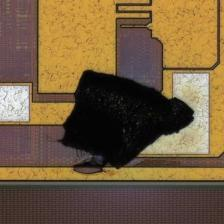PO CONTAMINATION: (58, 70, 197, 176)
